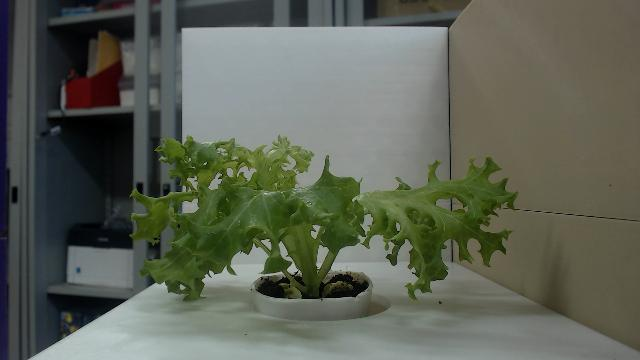Harvest Stage: (128, 133, 518, 301)
